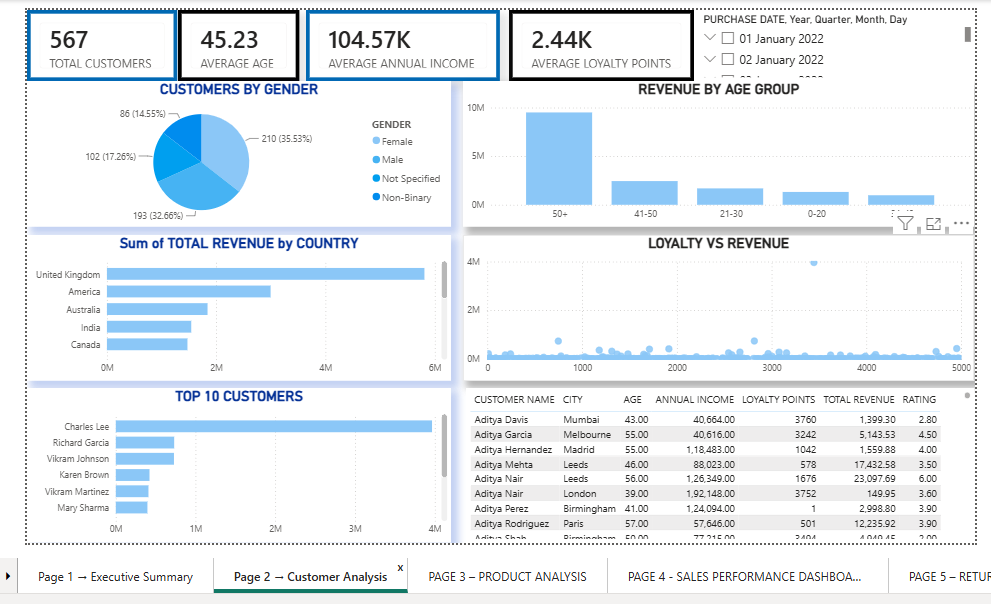

The page's visual inventory and layout, read from the dashboard file:
{"tool":"powerbi","page":{"name":"Page 2 → Customer Analysis","canvas":[1280,720],"ordinal":1},"visuals":[{"type":"cardVisual","fields":{"Data":["Count(Fresh Sales Data.CUSTOMER ID)"]},"box":[0,0,203,96.5],"z":0},{"type":"cardVisual","fields":{"Data":["Avg(Fresh Sales Data.LOYALTY POINTS)"]},"box":[650.9,0,250.6,96.5],"z":1000},{"type":"cardVisual","fields":{"Data":["Avg(Fresh Sales Data.AGE)"]},"box":[204.5,0,164.2,96.5],"z":2000},{"type":"cardVisual","fields":{"Data":["Avg(Fresh Sales Data.ANNUAL INCOME)"]},"box":[377.3,0,262.1,96.5],"z":3000},{"type":"pieChart","title":" CUSTOMERS  BY GENDER","fields":{"Category":["Fresh Sales Data.GENDER"],"Y":["Count(Fresh Sales Data.CUSTOMER ID)"]},"box":[0,96.5,573.1,197.3],"z":4000},{"type":"columnChart","title":" REVENUE BY AGE GROUP","fields":{"Category":["Fresh Sales Data.Age Group"],"Y":["Sum(Fresh Sales Data.TOTAL REVENUE)"]},"box":[589,96.5,691.2,197.3],"z":5000},{"type":"clusteredBarChart","fields":{"Category":["Fresh Sales Data.COUNTRY"],"Y":["Sum(Fresh Sales Data.TOTAL REVENUE)"]},"box":[0,303.8,573.1,197.3],"z":6000},{"type":"scatterChart","title":" LOYALTY VS REVENUE","fields":{"Y":["Sum(Fresh Sales Data.TOTAL REVENUE)"],"X":["Fresh Sales Data.LOYALTY POINTS"]},"box":[589,303.8,691.2,197.3],"z":7000},{"type":"clusteredBarChart","title":"TOP 10 CUSTOMERS","fields":{"Category":["Fresh Sales Data.CUSTOMER NAME"],"Y":["Sum(Fresh Sales Data.TOTAL REVENUE)"]},"box":[0,511.2,573.1,208.8],"z":8000},{"type":"tableEx","fields":{"Values":["Fresh Sales Data.CUSTOMER NAME","Fresh Sales Data.CITY","Fresh Sales Data.AGE","Fresh Sales Data.ANNUAL INCOME","Fresh Sales Data.LOYALTY POINTS","Fresh Sales Data.TOTAL REVENUE","Fresh Sales Data.RATING"]},"box":[593.3,511.2,686.9,208.8],"z":9000},{"type":"slicer","fields":{"Values":["Fresh Sales Data.PURCHASE DATE","Fresh Sales Data.PURCHASE DATE.Variation.Date Hierarchy.Year","Fresh Sales Data.PURCHASE DATE.Variation.Date Hierarchy.Quarter","Fresh Sales Data.PURCHASE DATE.Variation.Date Hierarchy.Month","Fresh Sales Data.PURCHASE DATE.Variation.Date Hierarchy.Day"]},"box":[901.4,0,378.7,96.5],"z":10000}]}

Visuals, with their boxes on the page's 1280x720 design canvas (x1, y1, x2, y2). These are canvas units, not pixel positions in the 991x604 screenshot, which may show the page scaled, cropped or inside an application window:
cardVisual - Count(Fresh Sales Data.CUSTOMER ID): box=[0, 0, 203, 96]
cardVisual - Avg(Fresh Sales Data.LOYALTY POINTS): box=[651, 0, 902, 96]
cardVisual - Avg(Fresh Sales Data.AGE): box=[204, 0, 369, 96]
cardVisual - Avg(Fresh Sales Data.ANNUAL INCOME): box=[377, 0, 639, 96]
" CUSTOMERS  BY GENDER" pieChart: box=[0, 96, 573, 294]
" REVENUE BY AGE GROUP" columnChart: box=[589, 96, 1280, 294]
clusteredBarChart - Fresh Sales Data.COUNTRY x Sum(Fresh Sales Data.TOTAL REVENUE): box=[0, 304, 573, 501]
" LOYALTY VS REVENUE" scatterChart: box=[589, 304, 1280, 501]
"TOP 10 CUSTOMERS" clusteredBarChart: box=[0, 511, 573, 720]
tableEx - Fresh Sales Data.CUSTOMER NAME x Fresh Sales Data.CITY: box=[593, 511, 1280, 720]
slicer - Fresh Sales Data.PURCHASE DATE x Fresh Sales Data.PURCHASE DATE.Variation.Date Hierarchy.Year: box=[901, 0, 1280, 96]
